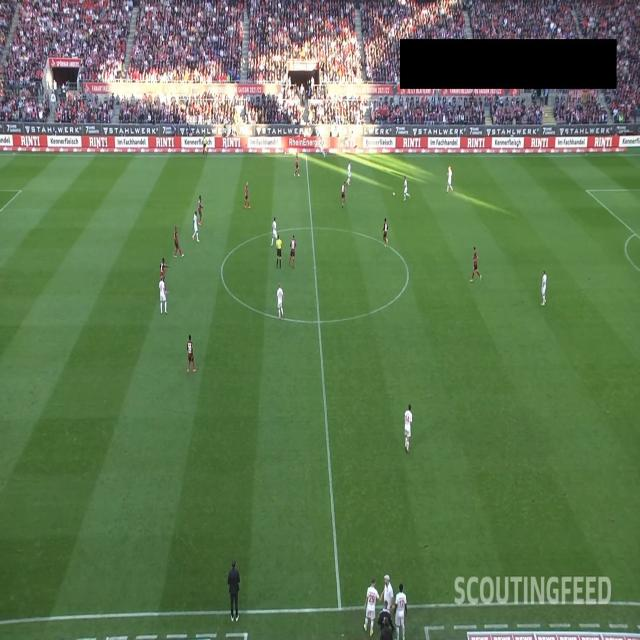ball: (392, 191, 396, 198)
